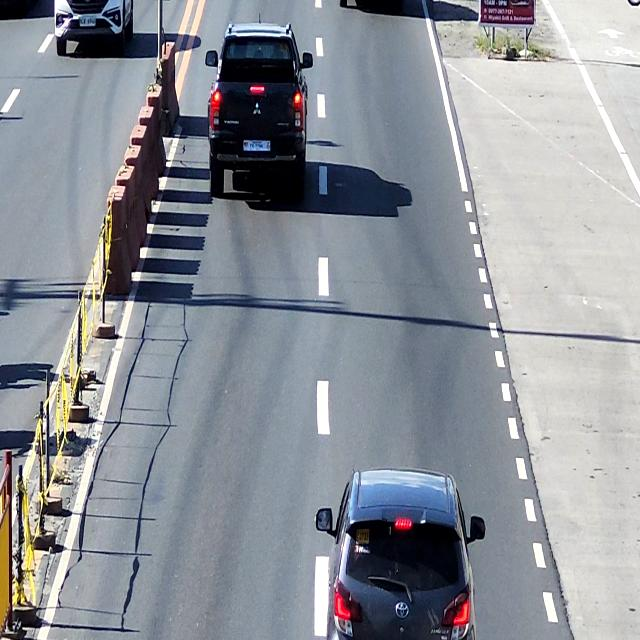Car: (325, 465, 478, 640), (208, 25, 304, 204), (53, 0, 132, 53)
License-Plate: (240, 136, 273, 156), (78, 14, 97, 26)
